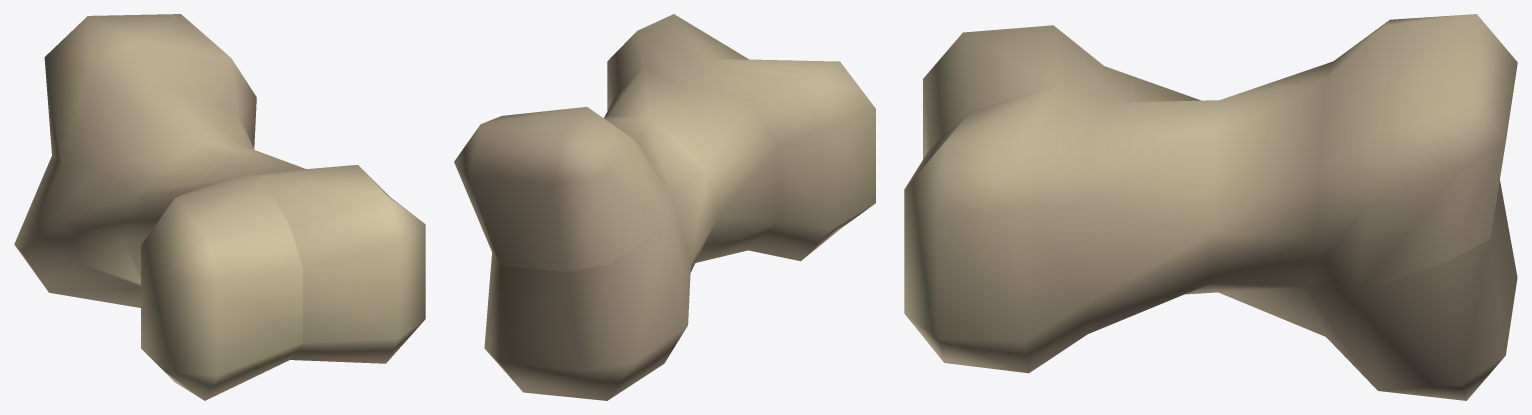
File: deco_bone_1.fbx
The picture shows the model from 3 angles, left to right: view 1: azimuth 30°, elevation 25°; view 2: azimuth 150°, elevation 25°; view 3: azimuth 270°, elevation 25°; orthographic projection. The views are drawn at different scales.
Parts seen in each view (by area): view 1: deco_bone_1; view 2: deco_bone_1; view 3: deco_bone_1.
Part boxes in pixels (x1=…): deco_bone_1: x1=14, y1=14, x2=425, y2=400; deco_bone_1: x1=454, y1=14, x2=875, y2=400; deco_bone_1: x1=904, y1=14, x2=1517, y2=400.
Bounding box in the file's own units: 27.35 × 28.73 × 44.59.
Materials: 1 (1 with a texture image).
